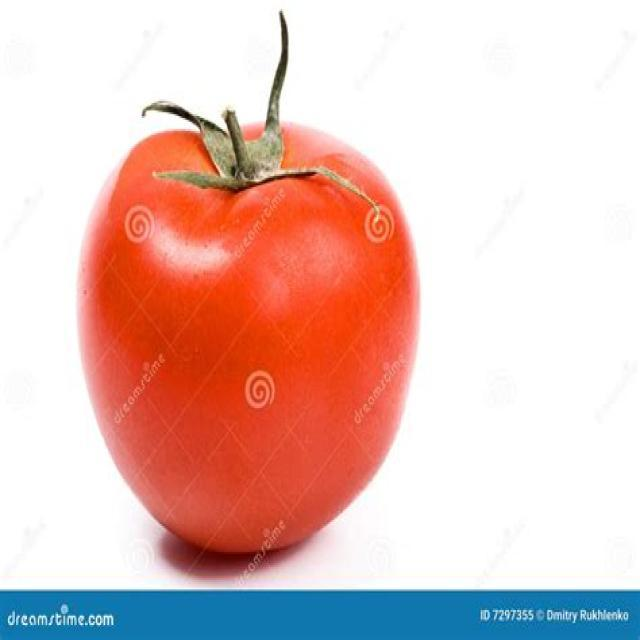Tomato: (76, 16, 423, 561)
